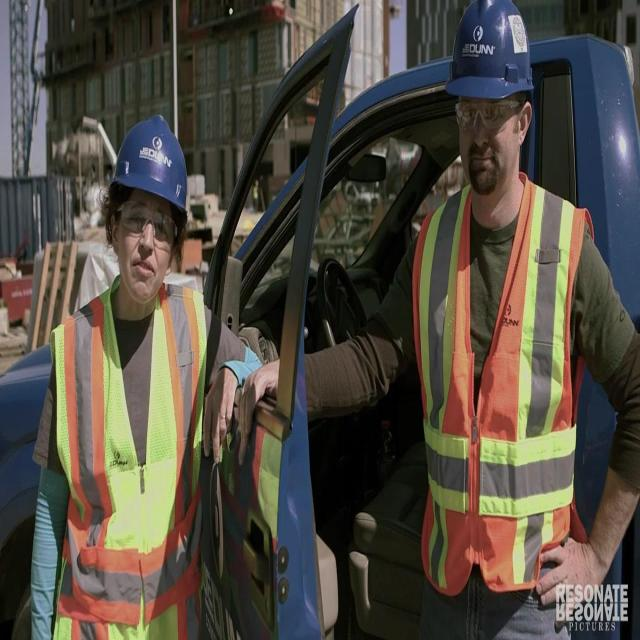Vest: (411, 173, 595, 593), (51, 275, 210, 638)
